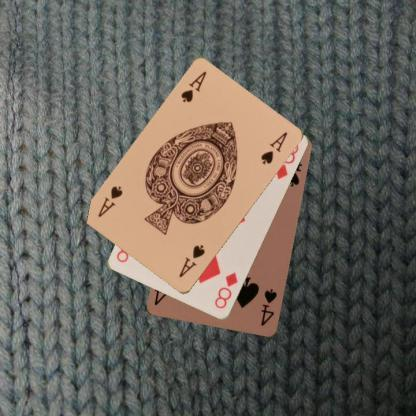4s: (258, 286, 278, 328)
8d: (212, 270, 239, 311)
As: (176, 242, 207, 279), (178, 69, 208, 104)
